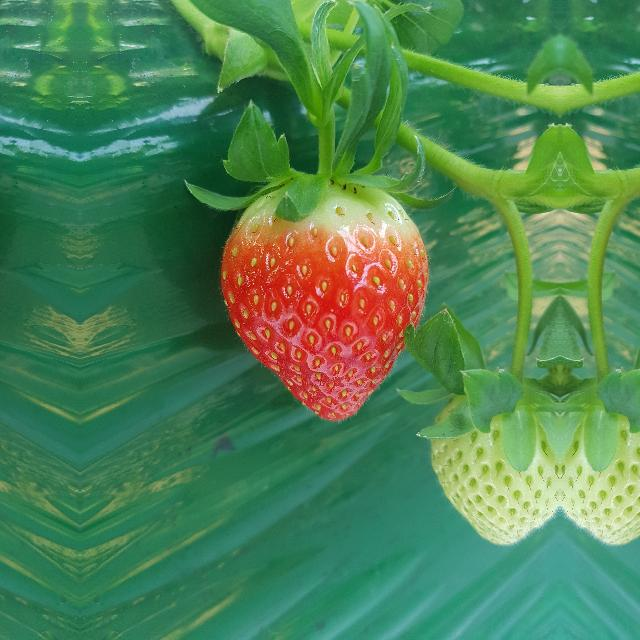Health_25: (430, 380, 560, 546), (560, 380, 640, 545)
Health_75: (218, 180, 430, 422)
